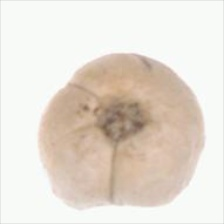L4: (38, 52, 205, 209)
